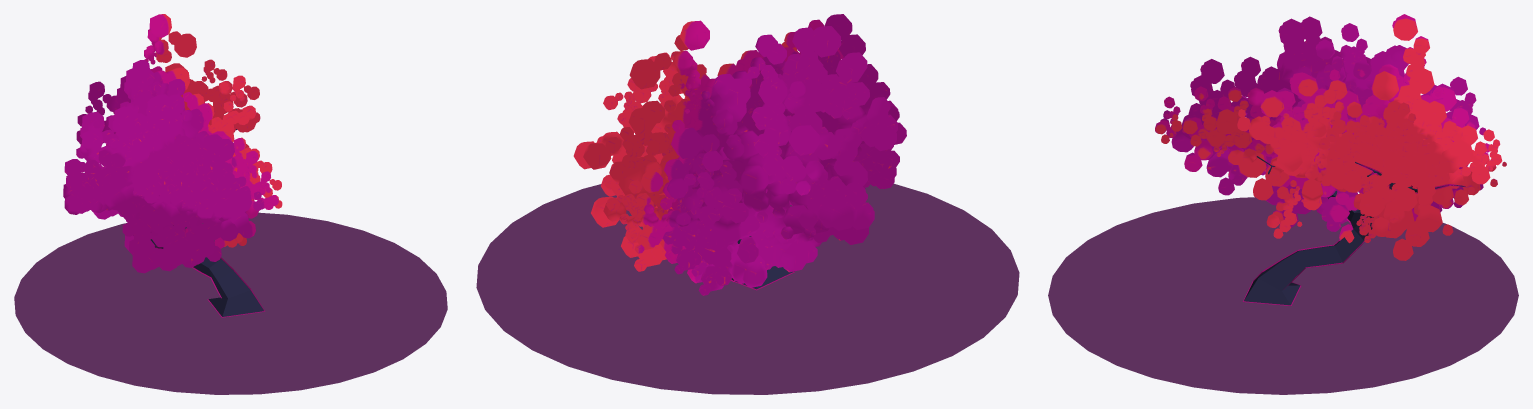
File: modele.glb
3 views of the same model, side by side, from view 1: azimuth 30°, elevation 25°; view 2: azimuth 150°, elevation 25°; view 3: azimuth 270°, elevation 25° (orthographic). The views are drawn at different scales.
Parts seen in each view (by area): view 1: Circle, Foliage, Tree; view 2: Circle, Foliage; view 3: Circle, Foliage, Tree.
Part boxes in pixels (<box>): Circle: <box>14,212,447,394</box>; Foliage: <box>63,14,282,273</box>; Tree: <box>150,129,264,317</box>; Circle: <box>476,183,1019,394</box>; Foliage: <box>573,14,906,295</box>; Circle: <box>1048,197,1518,394</box>; Foliage: <box>1155,14,1506,260</box>; Tree: <box>1243,156,1465,305</box>.
Bounding box in the file's own units: 102 × 65.31 × 102.
Materials: 4 (1 with a texture image).
